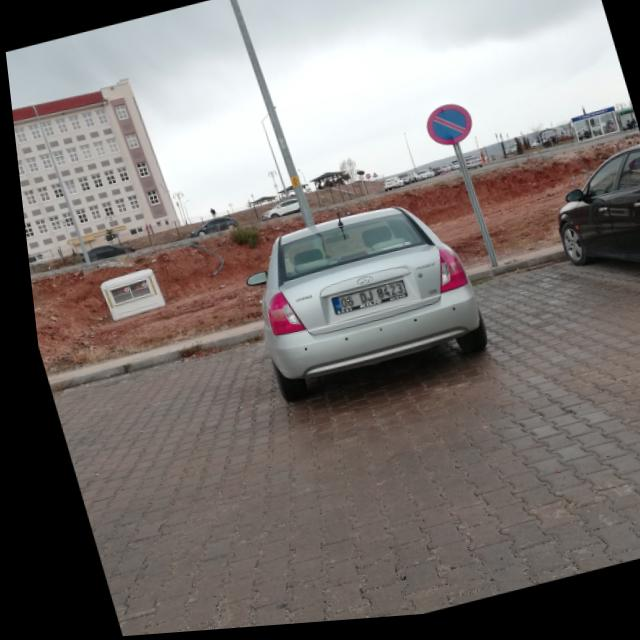license_plate: (322, 285, 399, 316)
